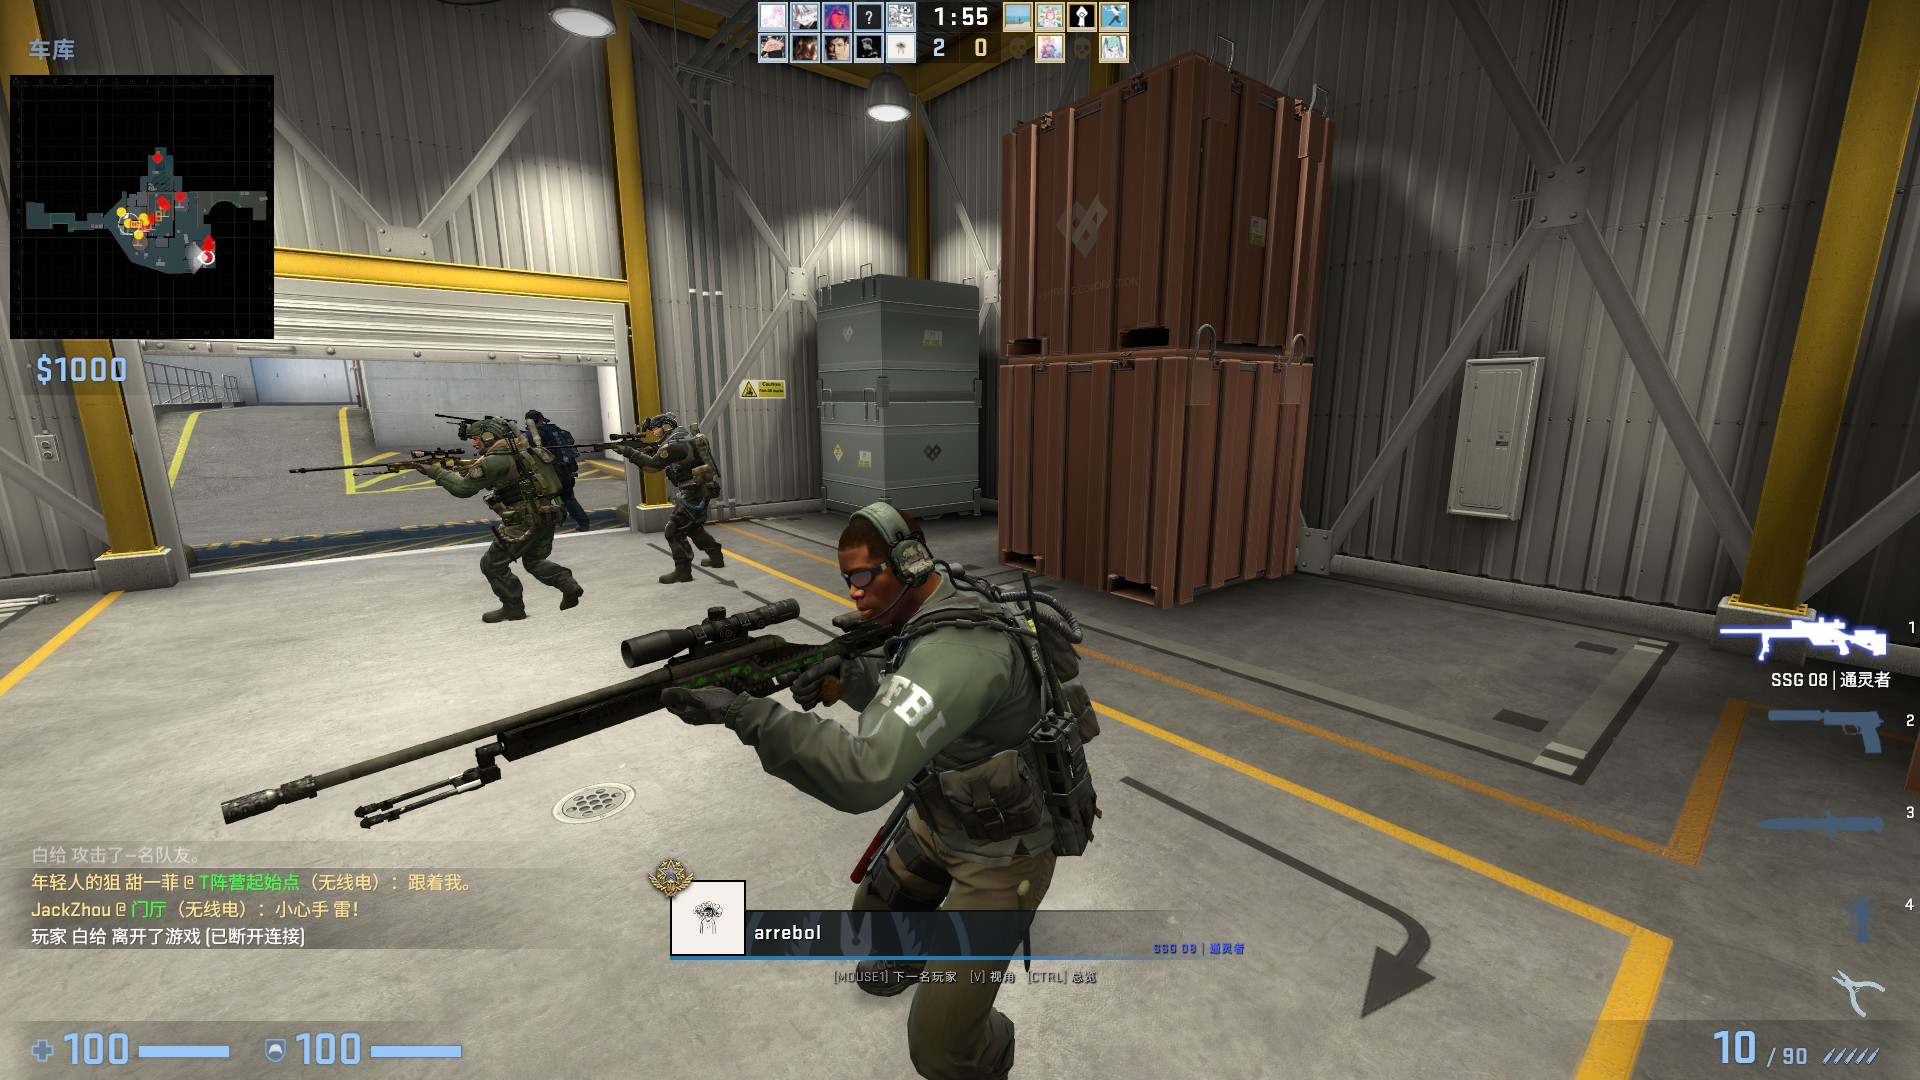head: (839, 502, 930, 620), (469, 415, 512, 450), (646, 407, 676, 437), (526, 409, 543, 427)
